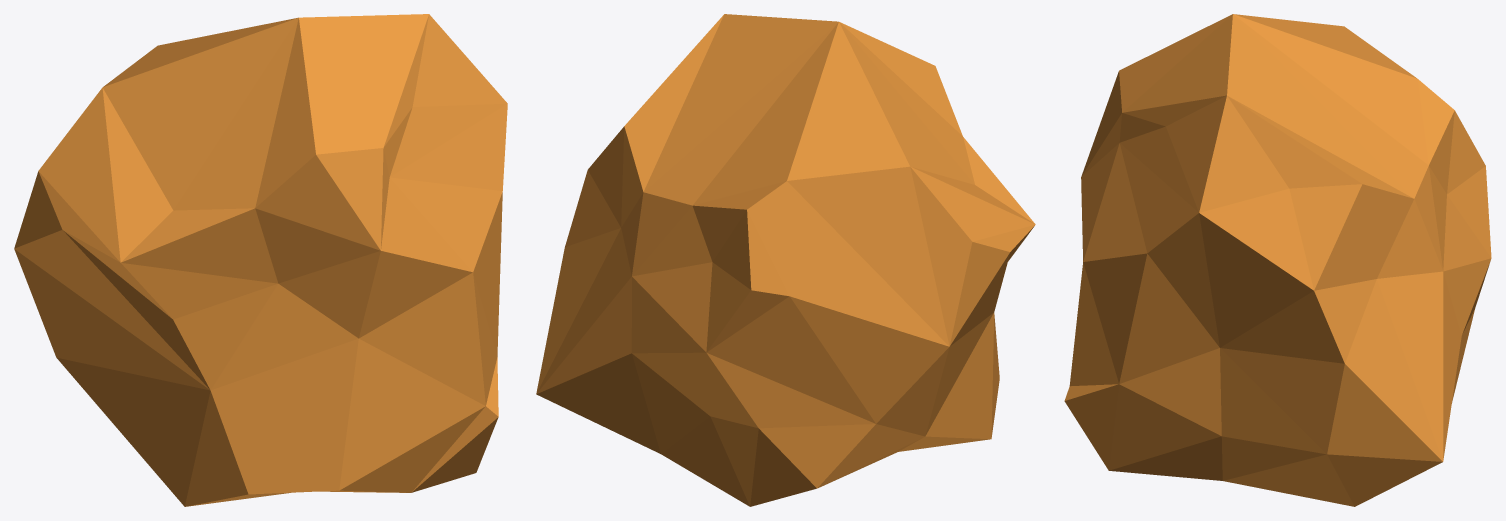
The model's file is BasicRock.fbx.
3 renders of one model, left to right at view 1: azimuth 30°, elevation 25°; view 2: azimuth 150°, elevation 25°; view 3: azimuth 270°, elevation 25°, orthographic. The views are drawn at different scales.
Visible parts, largest first — view 1: Cube; view 2: Cube; view 3: Cube.
Part boxes in pixels (x1,y1,x2,y2): Cube: [14, 14, 507, 506]; Cube: [536, 14, 1035, 506]; Cube: [1064, 14, 1491, 506].
Bounding box in the file's own units: 1327 × 1236 × 1171.
